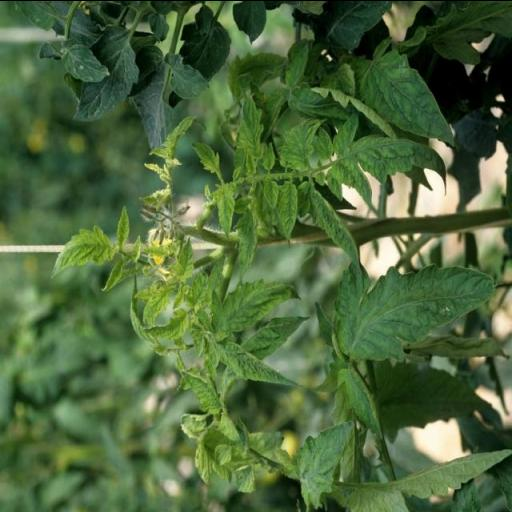disease_tomato: (351, 35, 455, 147), (328, 110, 446, 206), (284, 80, 398, 138), (210, 278, 304, 342), (308, 188, 360, 272), (214, 341, 302, 389), (49, 224, 115, 280), (148, 114, 208, 160), (276, 115, 328, 168), (233, 88, 265, 162), (232, 206, 259, 282), (180, 368, 222, 415), (140, 306, 190, 343), (140, 276, 172, 324), (212, 180, 238, 238), (277, 178, 300, 240), (285, 40, 311, 88), (172, 234, 196, 284), (192, 138, 222, 174), (114, 204, 132, 250), (315, 124, 335, 159), (263, 176, 281, 207), (262, 140, 276, 170)
